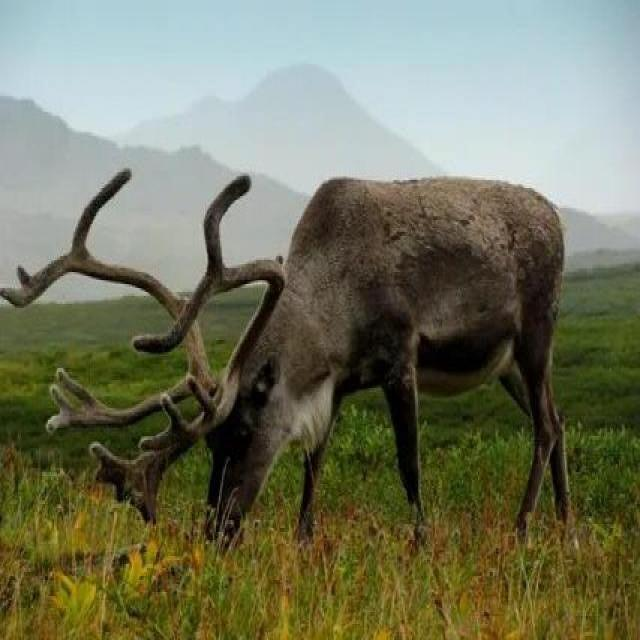deer: (131, 88, 640, 499)
